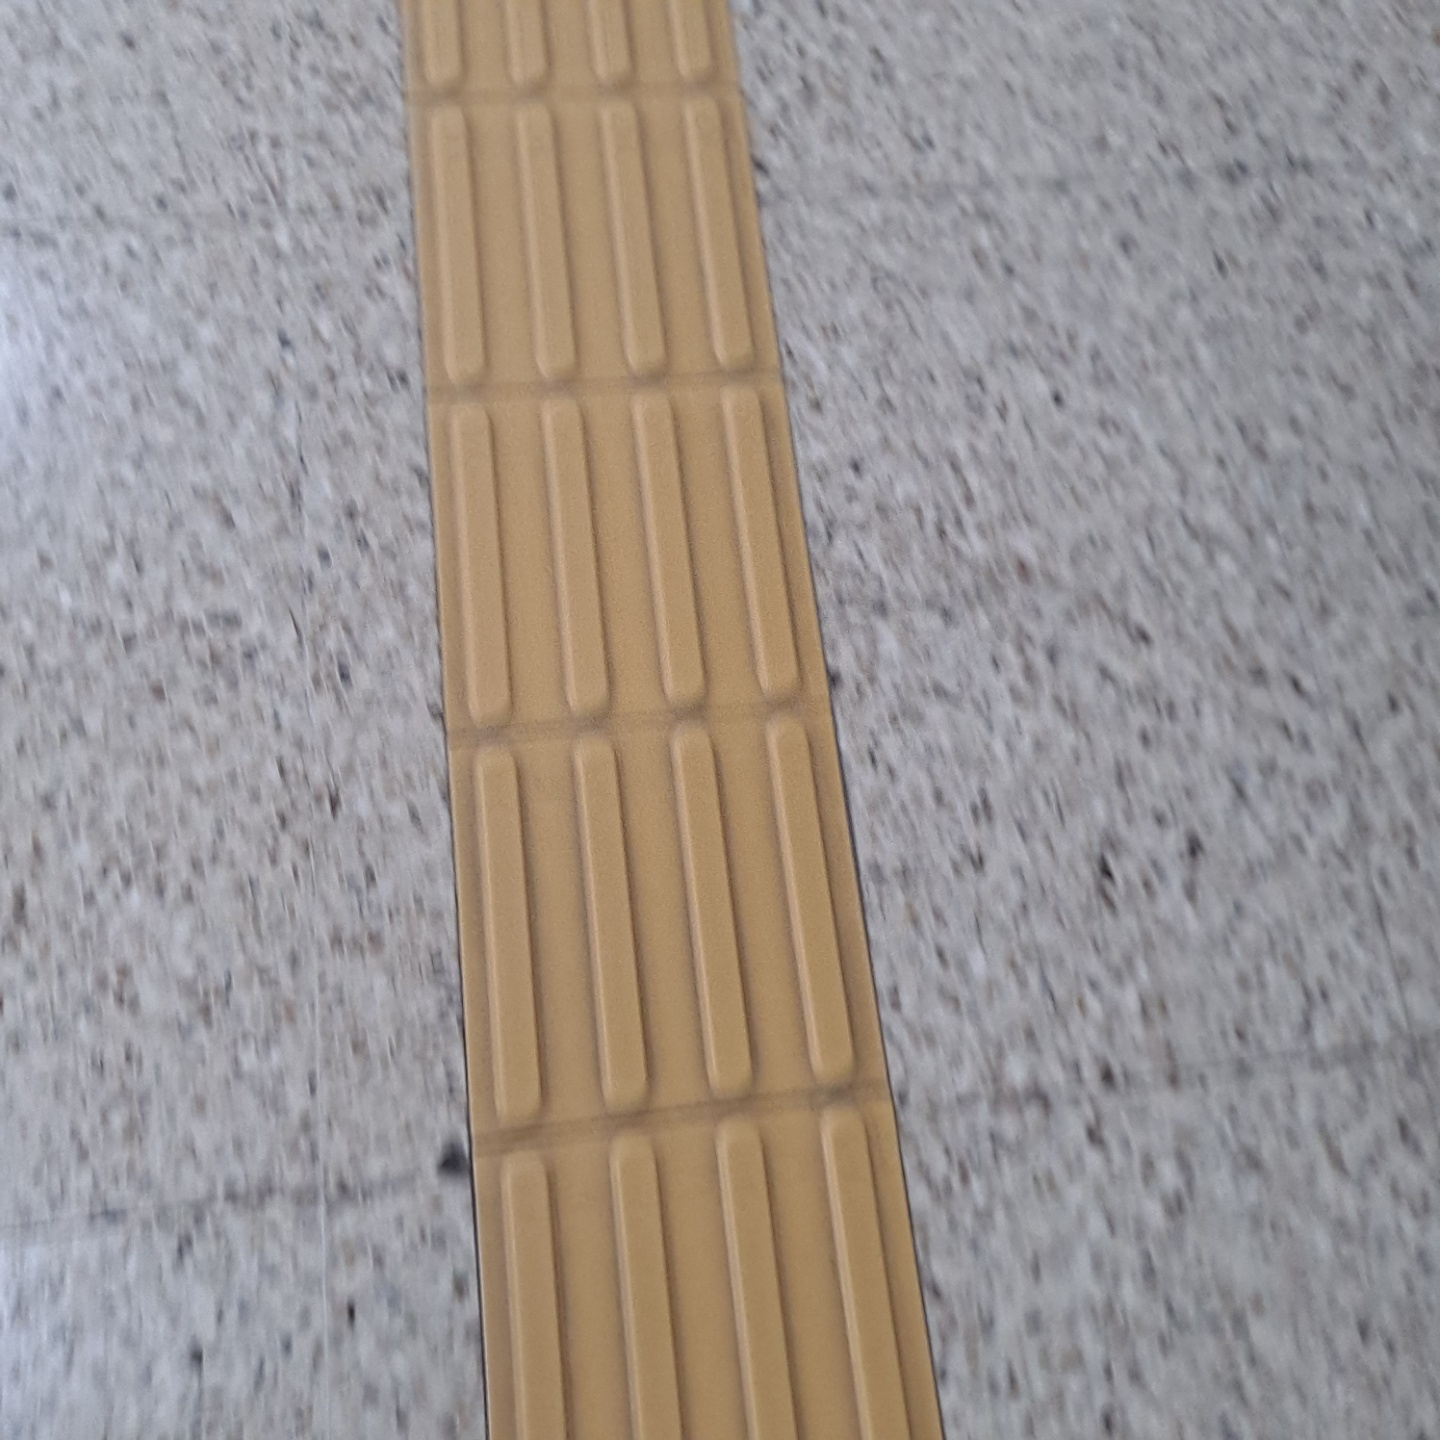guideBlock: (477, 1143, 947, 1440), (477, 740, 866, 1080), (431, 396, 807, 724), (425, 98, 796, 389), (407, 9, 760, 92)
